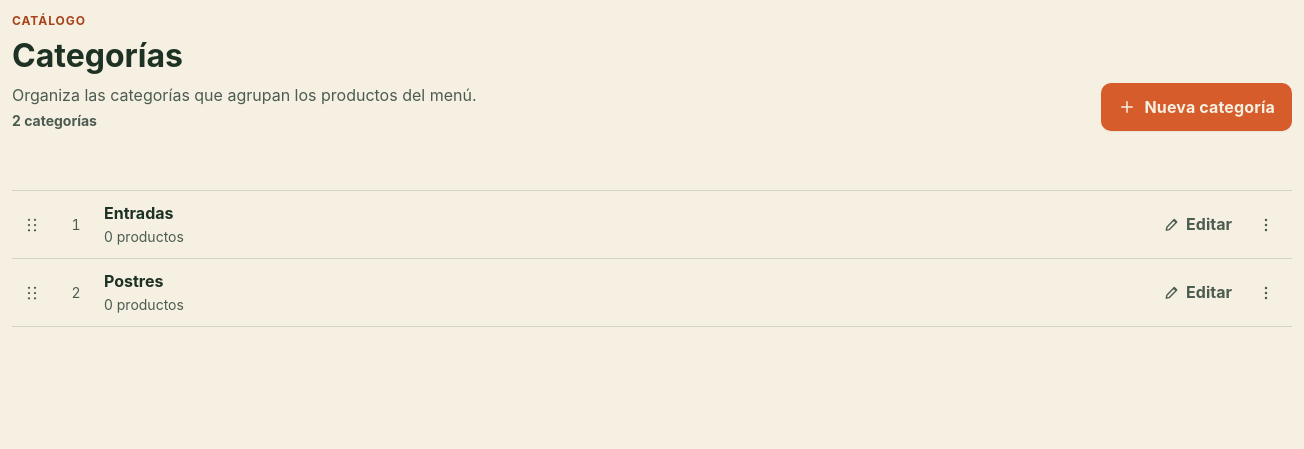
Test: CategoryManagement › reports a reorder failure instead of leaving an unhandled rejection
The width and height of the screenshot is (1304, 449).
Click the button named "Acciones para Entradas" at (1266,225), box 1244,203 -> 1288,247
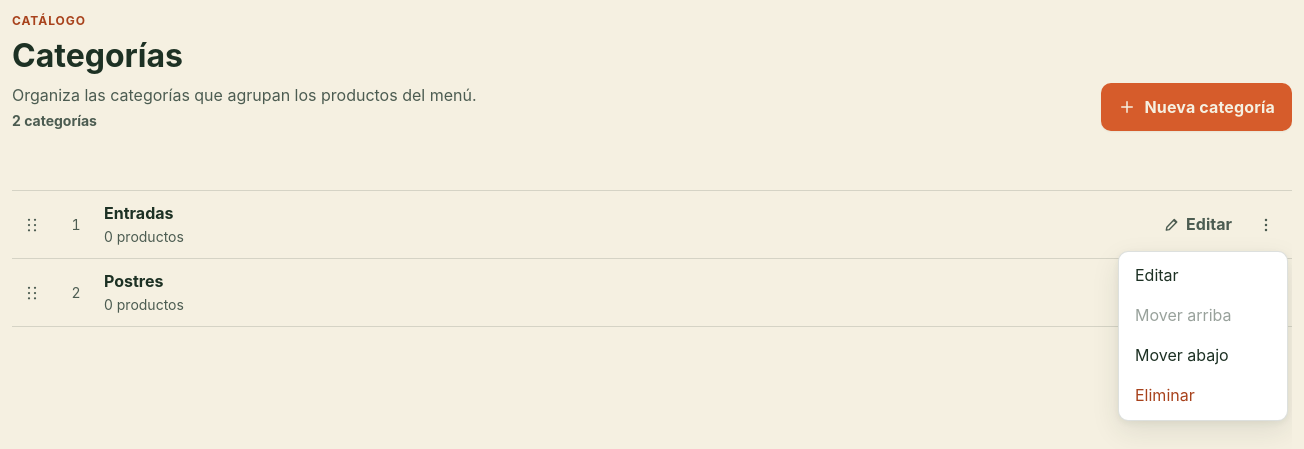
Click the menu item "Mover abajo" at (1203,356), box 1123,336 -> 1283,376
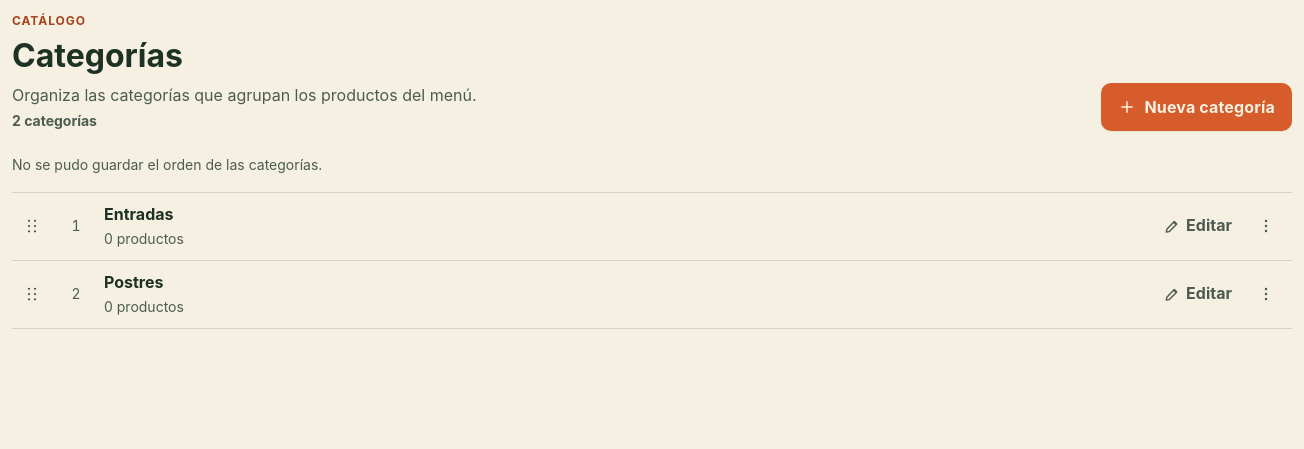
Expected: the text "No se pudo guardar el orden de las categorías." is shown, 12,156 -> 322,173
